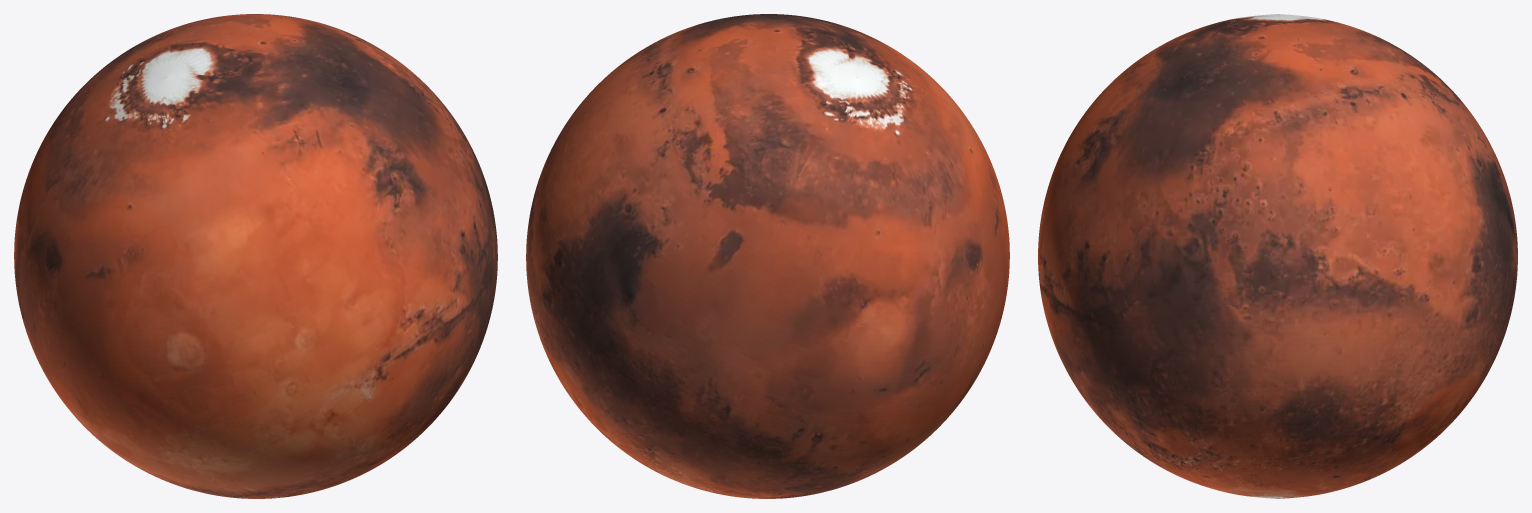
3 views of the same model, side by side, from view 1: azimuth 30°, elevation 25°; view 2: azimuth 150°, elevation 25°; view 3: azimuth 270°, elevation 25° (orthographic).
Visible parts, largest first — view 1: 4. mars; view 2: 4. mars; view 3: 4. mars.
Boxes of the visible parts, x1,y1,x2,y2 form: 4. mars: (14,14,497,498); 4. mars: (526,14,1009,498); 4. mars: (1038,14,1517,498).
Size of the model in its own units: 2.77 by 2.78 by 2.76.
1 material, 1 textured.
